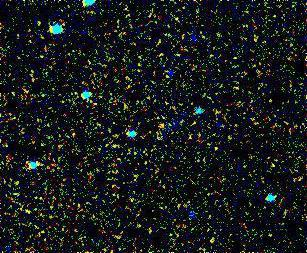star: (144, 112, 174, 142)
